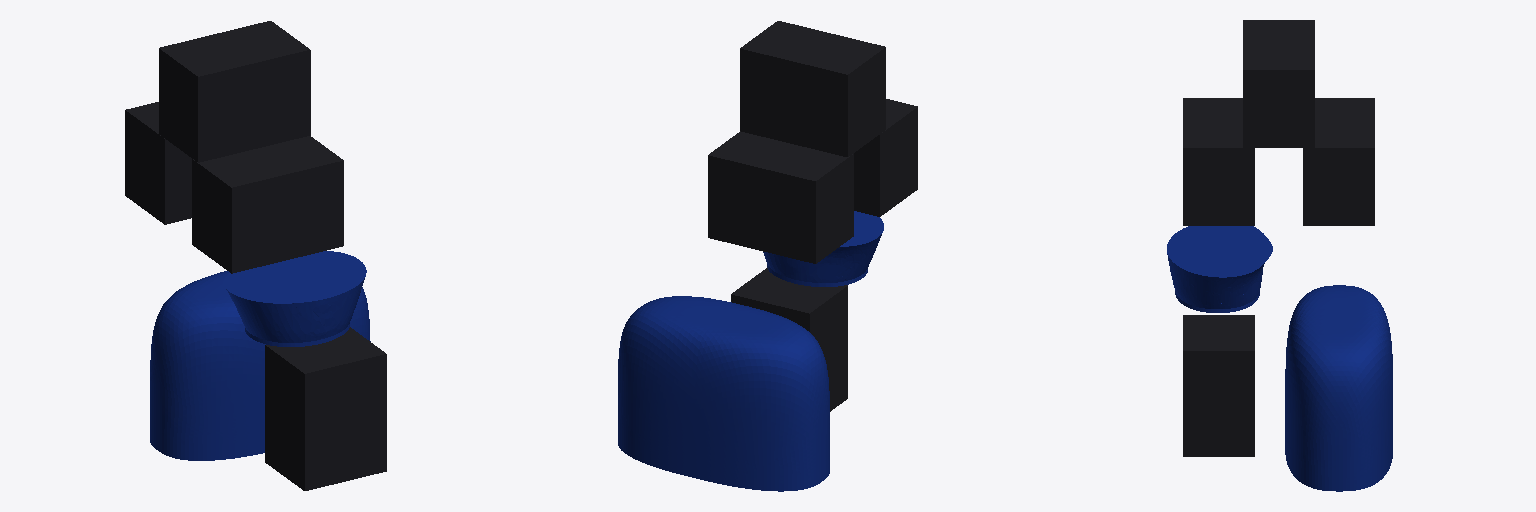
robot.urdf — haetburi:
<?xml version="1.0"?>
<!-- Haetburi biped (v8_yaw_roll) - generated by tools/build_model.py, do not edit by hand -->
<robot name="haetburi">
  <mujoco>
    <compiler meshdir="." balanceinertia="true" discardvisual="false" strippath="false" fusestatic="false"/>
  </mujoco>
  <material name="shell"><color rgba="0.106 0.216 0.541 1"/></material>
  <material name="motor"><color rgba="0.15 0.15 0.17 1"/></material>
  <material name="foot"><color rgba="0.25 0.25 0.28 1"/></material>
  <link name="world"/>
  <joint name="floating_base" type="floating">
    <parent link="world"/><child link="pelvis"/>
    <origin xyz="0 0 0" rpy="0 0 0"/>
  </joint>
  <link name="pelvis">
    <inertial>
      <origin xyz="0.00518639 0.00514494 0.0223867" rpy="0 0 0"/>
      <mass value="0.656009"/>
      <inertia ixx="0.000681809" ixy="8.60667e-05" ixz="1.16782e-05" iyy="0.000531301" iyz="1.12588e-05" izz="0.00103867"/>
    </inertial>
    <visual><origin xyz="0 0 0" rpy="0 0 0"/><geometry><mesh filename="meshes/pelvis.stl"/></geometry><material name="shell"/></visual>
    <visual><origin xyz="-0.012 0.0239394 0.0325" rpy="0 0 0"/><geometry><box size="0.0465 0.0285 0.034"/></geometry><material name="motor"/></visual>
    <visual><origin xyz="-0.012 -0.0239394 0.0325" rpy="0 0 0"/><geometry><box size="0.0465 0.0285 0.034"/></geometry><material name="motor"/></visual>
    <collision><origin xyz="-0.021074 3.58804e-05 0.0200721" rpy="0 0 0"/><geometry><box size="0.121075 0.119859 0.0581892"/></geometry></collision>
  </link>
  <link name="torso">
    <inertial>
      <origin xyz="-0.0080632 0.000513709 0.161797" rpy="0 0 0"/>
      <mass value="1.50323"/>
      <inertia ixx="0.025016" ixy="6.67603e-06" ixz="0.00131847" iyy="0.0229391" iyz="2.13903e-05" izz="0.0124843"/>
    </inertial>
    <visual><origin xyz="0 0 0" rpy="0 0 0"/><geometry><mesh filename="meshes/torso.stl"/></geometry><material name="shell"/></visual>
    <visual><origin xyz="-0.012 0 0.0175" rpy="0 0 0"/><geometry><box size="0.0465 0.0285 0.034"/></geometry><material name="motor"/></visual>
    <collision><origin xyz="-0.0221864 5.2166e-06 0.0316642" rpy="0 0 0"/><geometry><box size="0.122843 0.119977 0.0633283"/></geometry></collision>
    <collision><origin xyz="0.0385902 0.0915483 0.0381325" rpy="0 0 0"/><geometry><sphere radius="0.0579507"/></geometry></collision>
    <collision><origin xyz="0.0386898 -0.0915509 0.0316598" rpy="0 0 0"/><geometry><sphere radius="0.0618705"/></geometry></collision>
    <collision><origin xyz="-0.000345439 0.00125387 0.0927765" rpy="0 0 0"/><geometry><sphere radius="0.123215"/></geometry></collision>
    <collision><origin xyz="-0.00629357 0.00119689 0.151662" rpy="0 0 0"/><geometry><sphere radius="0.13801"/></geometry></collision>
    <collision><origin xyz="-0.0101044 0.000763982 0.210555" rpy="0 0 0"/><geometry><sphere radius="0.13749"/></geometry></collision>
    <collision><origin xyz="-0.0141337 -0.000964858 0.269446" rpy="0 0 0"/><geometry><sphere radius="0.12172"/></geometry></collision>
    <collision><origin xyz="-0.0219239 0.00343006 0.32832" rpy="0 0 0"/><geometry><sphere radius="0.0904228"/></geometry></collision>
    <collision><origin xyz="-0.0278985 -0.00418543 0.387235" rpy="0 0 0"/><geometry><sphere radius="0.0569478"/></geometry></collision>
  </link>
  <link name="leg_l">
    <inertial>
      <origin xyz="-2.7965e-07 6.1146e-05 -0.0349076" rpy="0 0 0"/>
      <mass value="0.0671071"/>
      <inertia ixx="3.13921e-05" ixy="-7.99898e-08" ixz="7.26039e-10" iyy="2.73147e-05" iyz="-4.96062e-08" izz="1.42689e-05"/>
    </inertial>
    <visual><origin xyz="0 0 0" rpy="0 0 0"/><geometry><mesh filename="meshes/leg_l.stl"/></geometry><material name="shell"/></visual>
    <collision><origin xyz="-1.21058e-05 -0.000511704 -0.00958333" rpy="0 0 0"/><geometry><box size="0.0539572 0.0428672 0.0191667"/></geometry></collision>
  </link>
  <link name="foot_l">
    <inertial>
      <origin xyz="0.0123099 -3.39254e-18 0.00922824" rpy="0 0 0"/>
      <mass value="0.150442"/>
      <inertia ixx="7.33282e-05" ixy="9.62385e-08" ixz="7.92723e-08" iyy="0.000106099" iyz="1.5807e-21" izz="7.54021e-05"/>
    </inertial>
    <visual><origin xyz="0 0 0" rpy="0 0 0"/><geometry><mesh filename="meshes/foot_l.stl"/></geometry><material name="shell"/></visual>
    <visual><origin xyz="0.012 0 0.012" rpy="0 0 0"/><geometry><box size="0.034 0.0285 0.0465"/></geometry><material name="motor"/></visual>
    <collision><origin xyz="0 0 0" rpy="0 0 0"/><geometry><mesh filename="meshes/foot_l.stl"/></geometry></collision>
  </link>
  <link name="leg_r">
    <inertial>
      <origin xyz="4.10056e-07 -5.89451e-05 -0.0349279" rpy="0 0 0"/>
      <mass value="0.0670574"/>
      <inertia ixx="3.1306e-05" ixy="-8.72225e-08" ixz="-1.3692e-09" iyy="2.72736e-05" iyz="4.88413e-08" izz="1.42158e-05"/>
    </inertial>
    <visual><origin xyz="0 0 0" rpy="0 0 0"/><geometry><mesh filename="meshes/leg_r.stl"/></geometry><material name="shell"/></visual>
    <collision><origin xyz="2.98055e-06 0.000513283 -0.00958333" rpy="0 0 0"/><geometry><box size="0.0539035 0.0424709 0.0191667"/></geometry></collision>
  </link>
  <link name="foot_r">
    <inertial>
      <origin xyz="0.0123099 3.43758e-18 0.00922824" rpy="0 0 0"/>
      <mass value="0.150442"/>
      <inertia ixx="7.33282e-05" ixy="-9.62385e-08" ixz="7.92723e-08" iyy="0.000106099" iyz="-1.27983e-21" izz="7.54021e-05"/>
    </inertial>
    <visual><origin xyz="0 0 0" rpy="0 0 0"/><geometry><mesh filename="meshes/foot_r.stl"/></geometry><material name="shell"/></visual>
    <visual><origin xyz="0.012 -0 0.012" rpy="0 0 0"/><geometry><box size="0.034 0.0285 0.0465"/></geometry><material name="motor"/></visual>
    <collision><origin xyz="0 0 0" rpy="0 0 0"/><geometry><mesh filename="meshes/foot_r.stl"/></geometry></collision>
  </link>
  <joint name="waist_yaw" type="revolute">
    <parent link="pelvis"/><child link="torso"/>
    <origin xyz="0 0 0.0491667" rpy="0 0 0"/>
    <axis xyz="0 0 1"/>
    <limit lower="-1.0472" upper="1.0472" effort="1.4" velocity="5.97"/>
    <dynamics damping="0.1" friction="0.04"/>
  </joint>
  <joint name="hip_yaw_l" type="revolute">
    <parent link="pelvis"/><child link="leg_l"/>
    <origin xyz="0 0.0239394 0" rpy="0 0 0"/>
    <axis xyz="0 0 1"/>
    <limit lower="-0.523599" upper="0.523599" effort="1.4" velocity="5.97"/>
    <dynamics damping="0.1" friction="0.04"/>
  </joint>
  <joint name="hip_yaw_r" type="revolute">
    <parent link="pelvis"/><child link="leg_r"/>
    <origin xyz="0 -0.0239394 0" rpy="0 0 0"/>
    <axis xyz="0 0 1"/>
    <limit lower="-0.523599" upper="0.523599" effort="1.4" velocity="5.97"/>
    <dynamics damping="0.1" friction="0.04"/>
  </joint>
  <joint name="ankle_roll_l" type="revolute">
    <parent link="leg_l"/><child link="foot_l"/>
    <origin xyz="0 0 -0.0664167" rpy="0 0 0"/>
    <axis xyz="1 0 0"/>
    <limit lower="-0.261799" upper="0.261799" effort="1.4" velocity="5.97"/>
    <dynamics damping="0.1" friction="0.04"/>
  </joint>
  <joint name="ankle_roll_r" type="revolute">
    <parent link="leg_r"/><child link="foot_r"/>
    <origin xyz="0 0 -0.0664167" rpy="0 0 0"/>
    <axis xyz="1 0 0"/>
    <limit lower="-0.261799" upper="0.261799" effort="1.4" velocity="5.97"/>
    <dynamics damping="0.1" friction="0.04"/>
  </joint>
</robot>

--- What the picture shows (computed from the rendered views, not written in the file) ---
The picture shows the robot from 3 angles, left to right: view 1: azimuth 30°, elevation 25°; view 2: azimuth 150°, elevation 25°; view 3: azimuth 270°, elevation 25°; orthographic projection.
Robot: haetburi — 7 links, 6 joints (5 revolute, 1 floating); root link world; default pose: every joint at zero.
Links seen in each view (by area): view 1: pelvis, foot_l, torso, foot_r, leg_r; view 2: foot_l, pelvis, torso, foot_r, leg_r; view 3: foot_l, pelvis, foot_r, torso, leg_r.
Boxes of the visible links, <box> form: pelvis: <box>125,102,343,273</box>; foot_l: <box>150,271,370,460</box>; torso: <box>159,21,310,162</box>; foot_r: <box>265,327,386,490</box>; leg_r: <box>223,251,366,346</box>; foot_l: <box>618,296,829,491</box>; pelvis: <box>708,99,917,263</box>; torso: <box>740,21,885,156</box>; foot_r: <box>731,268,847,411</box>; leg_r: <box>763,211,883,286</box>; foot_l: <box>1285,285,1392,491</box>; pelvis: <box>1183,98,1374,225</box>; foot_r: <box>1183,315,1254,456</box>; torso: <box>1243,20,1314,147</box>; leg_r: <box>1167,226,1272,312</box>.
Bounding box of the posed robot: 0.0903 × 0.0901 × 0.1643 m (x, y, z).
Meshes: 6 distinct files referenced, 2 mesh visuals loaded (2 binary STL); not drawn: 4 (reference not matched to a file when rendering).
